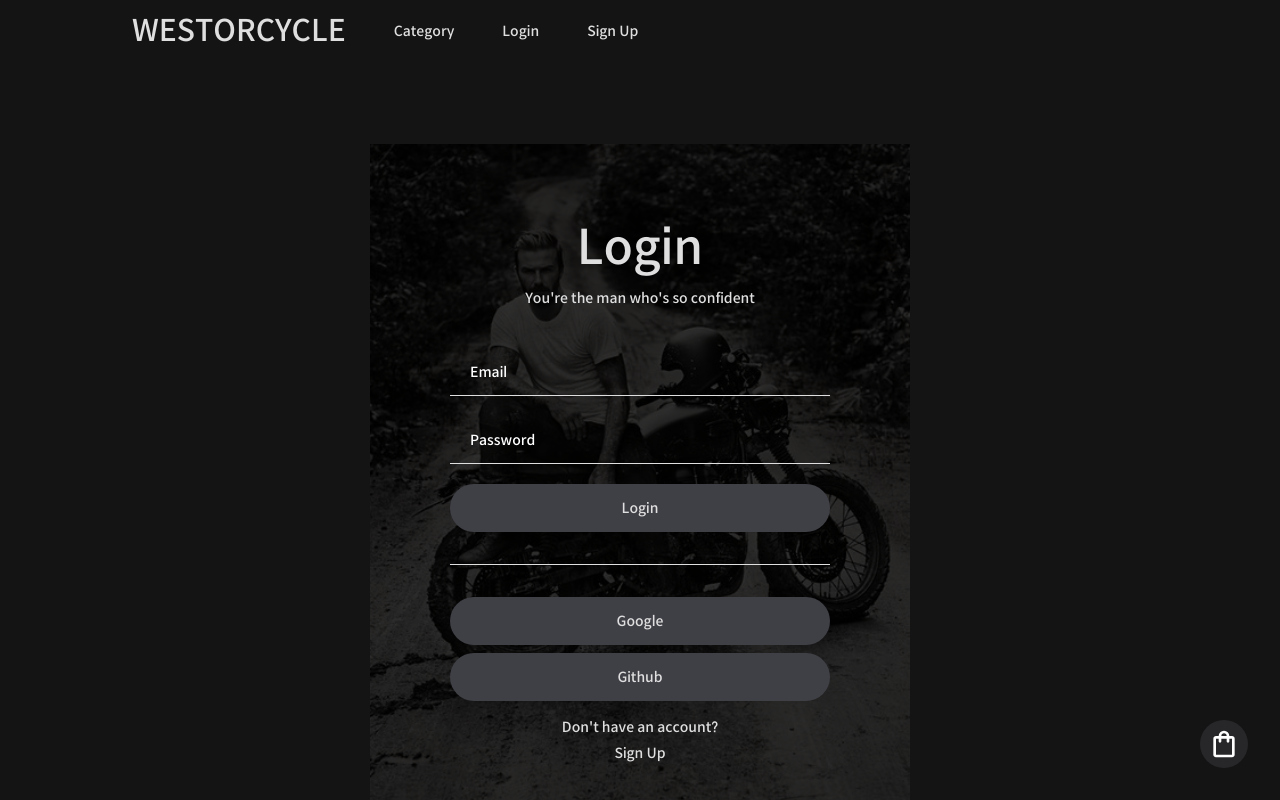
Test: Login › should display an error message when email or password is not match
Type "test@test.com" into the field with id "email-login".
click(640, 372); type("test@test.com")  # box [450,348,830,396]
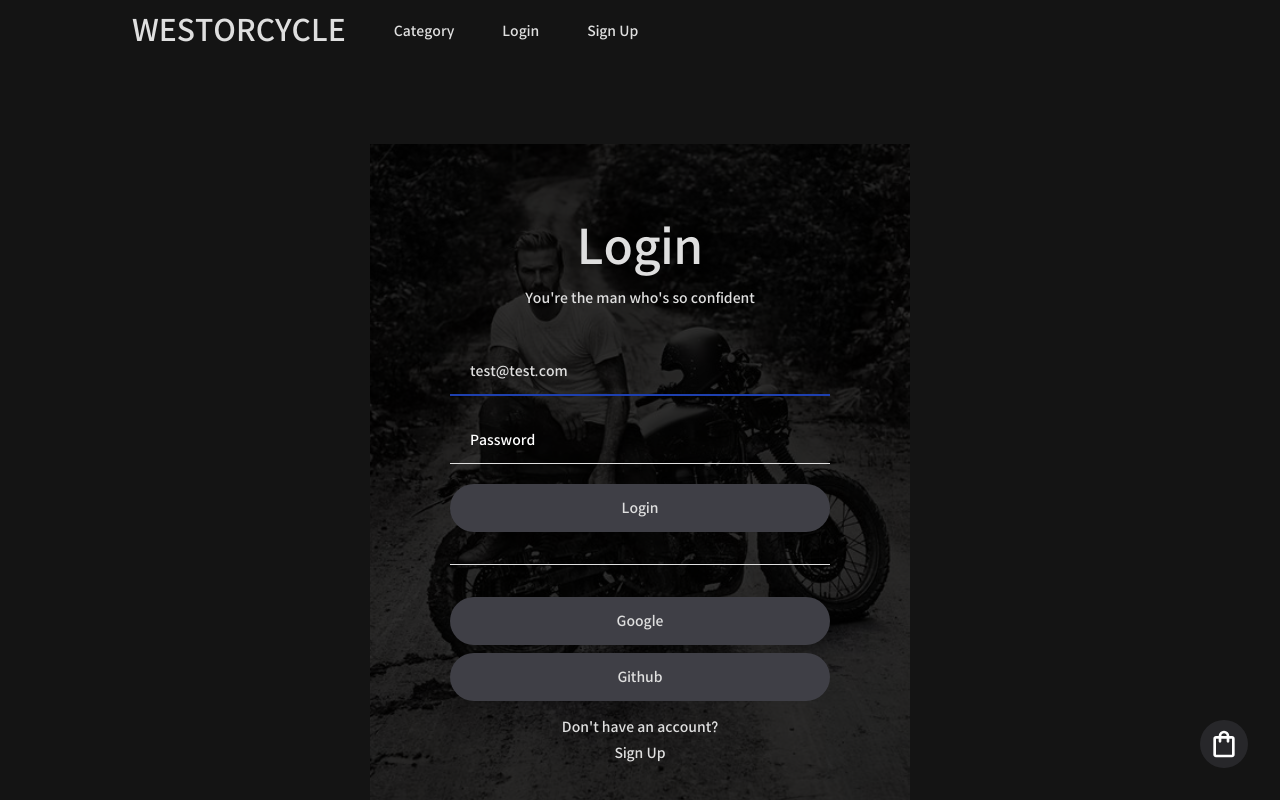
Type "Testtesttest1@" into the password field with placeholder "Password".
click(640, 440); type("Testtesttest1@")  # box [450,416,830,464]
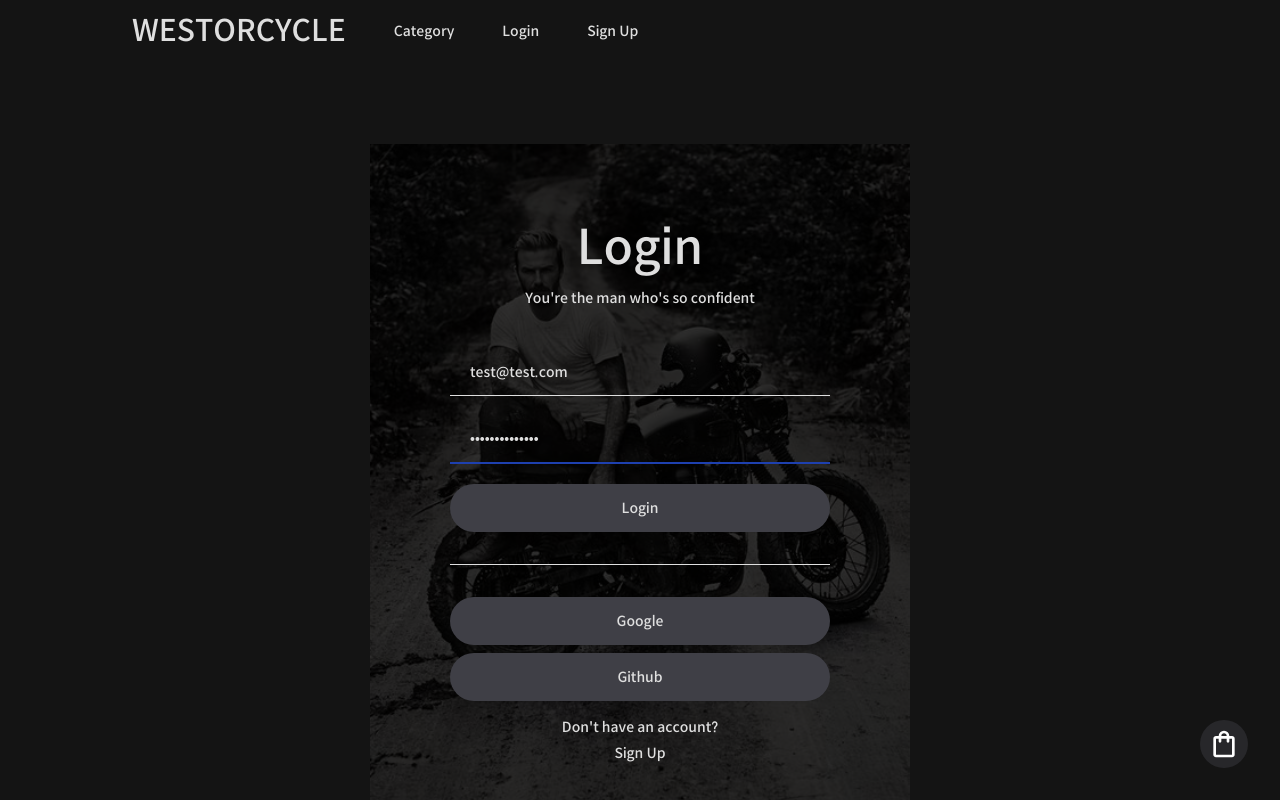
Replace the text in the field with id "email-login" with "t" at (640, 372), box [450,348,830,396]
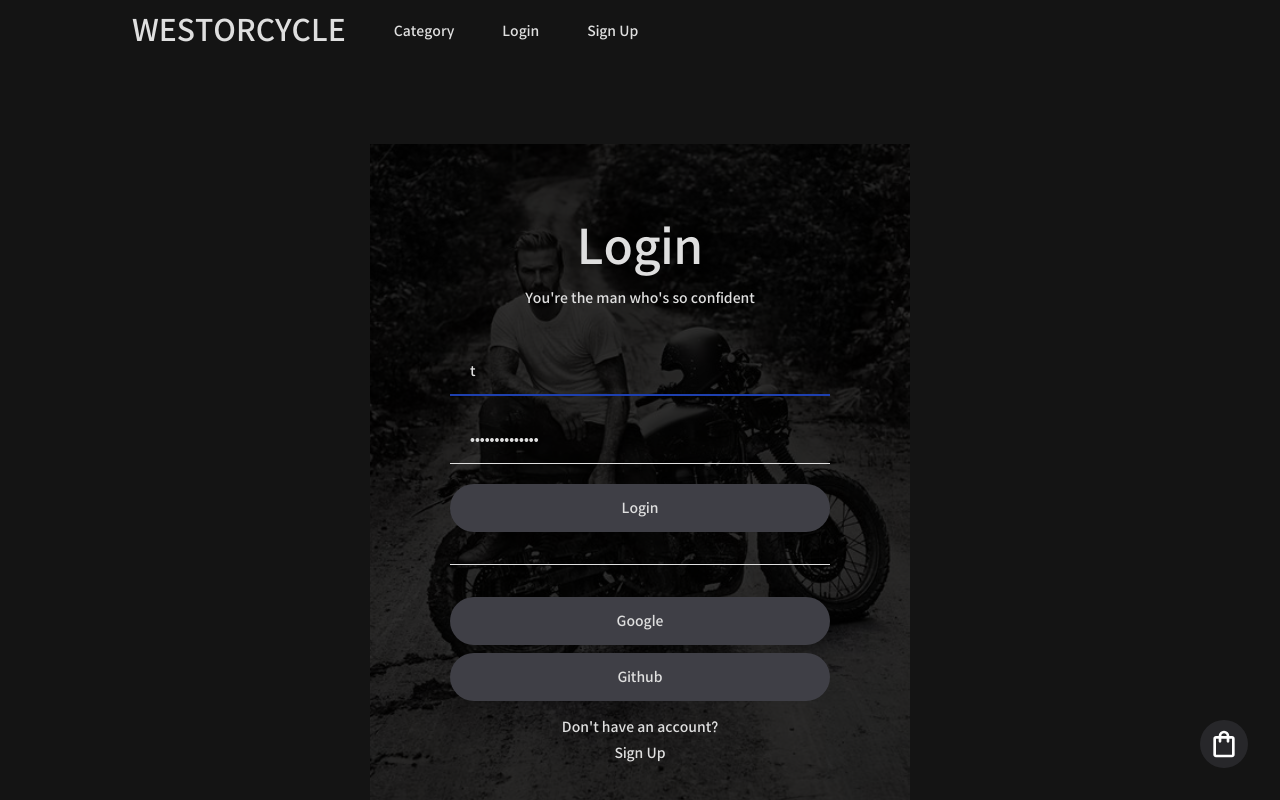
Type "1111" into the password field.
click(640, 440); type("1111")  # box [450,416,830,464]
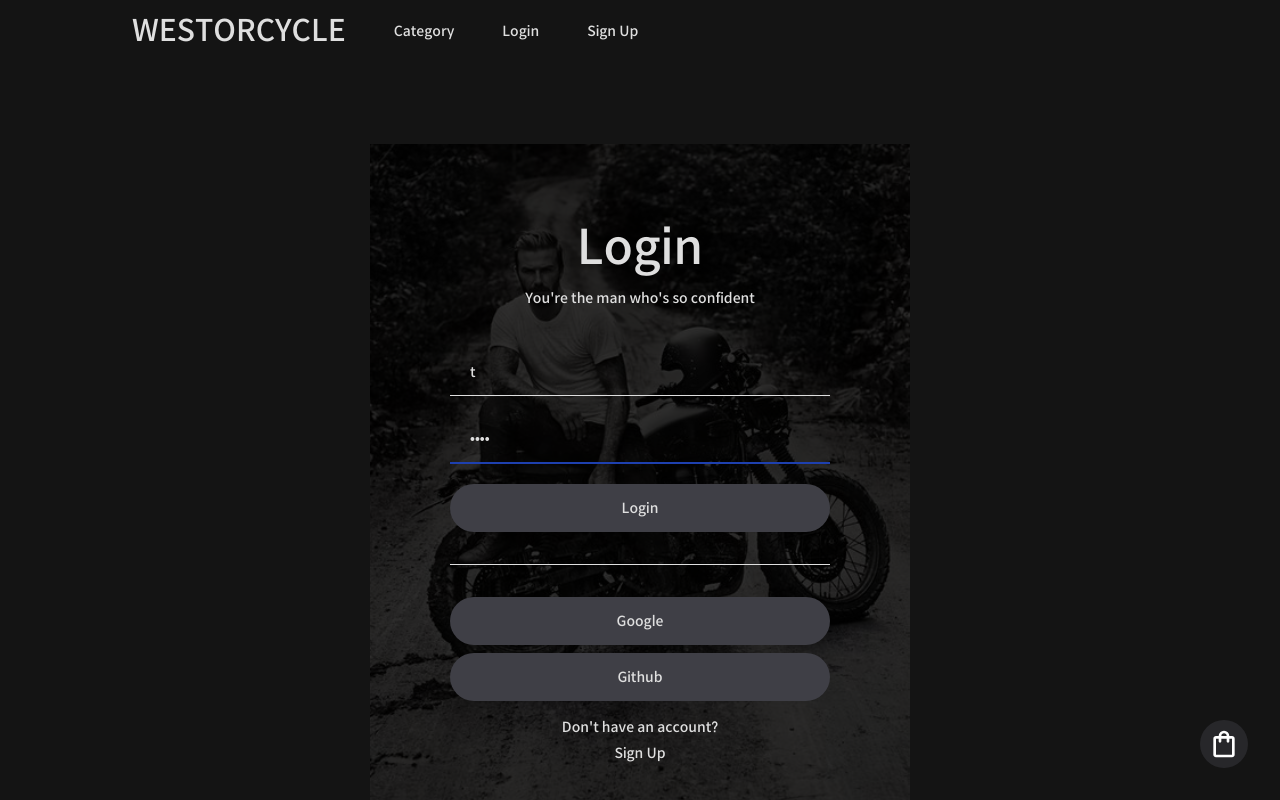
Click the button with id "loginButton".
click(640, 508)  # box [450,484,830,532]
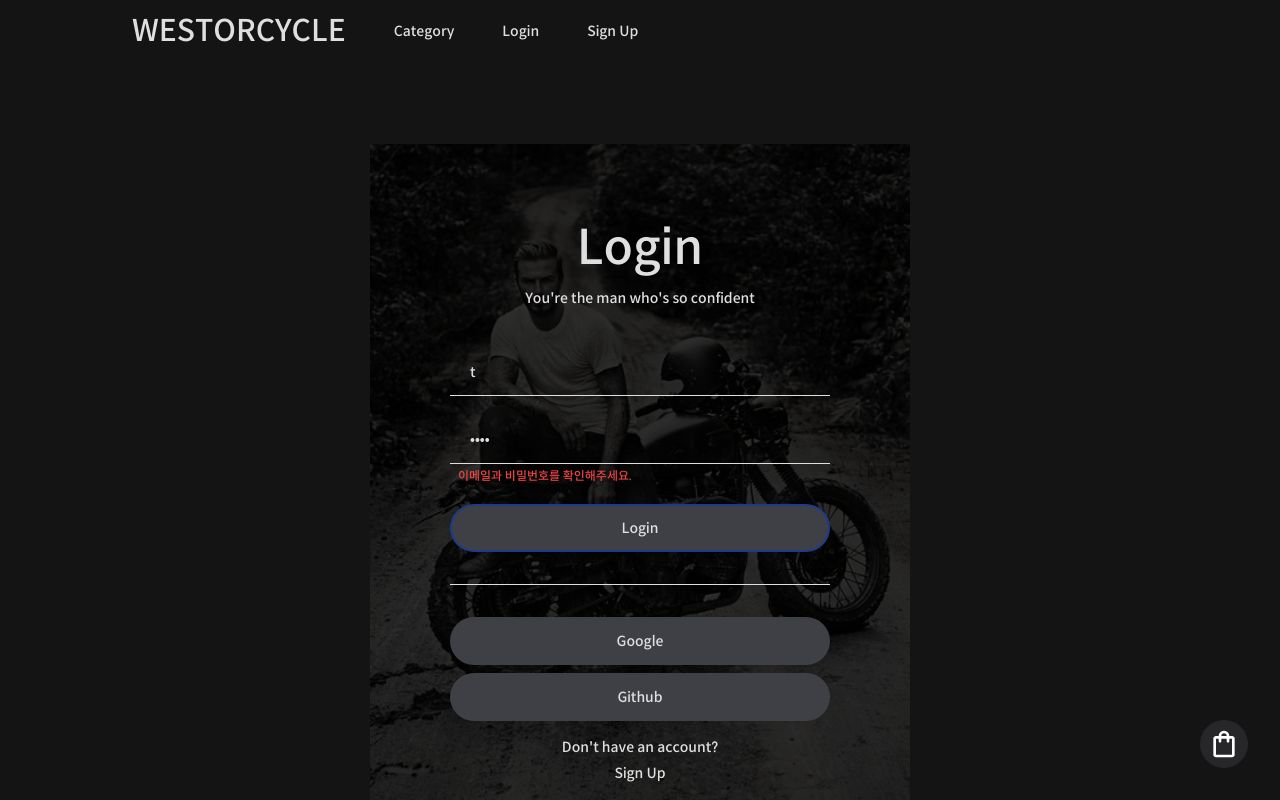
Now the text "이메일과 비밀번호를 확인해주세요." is shown, box [458,468,632,483]
